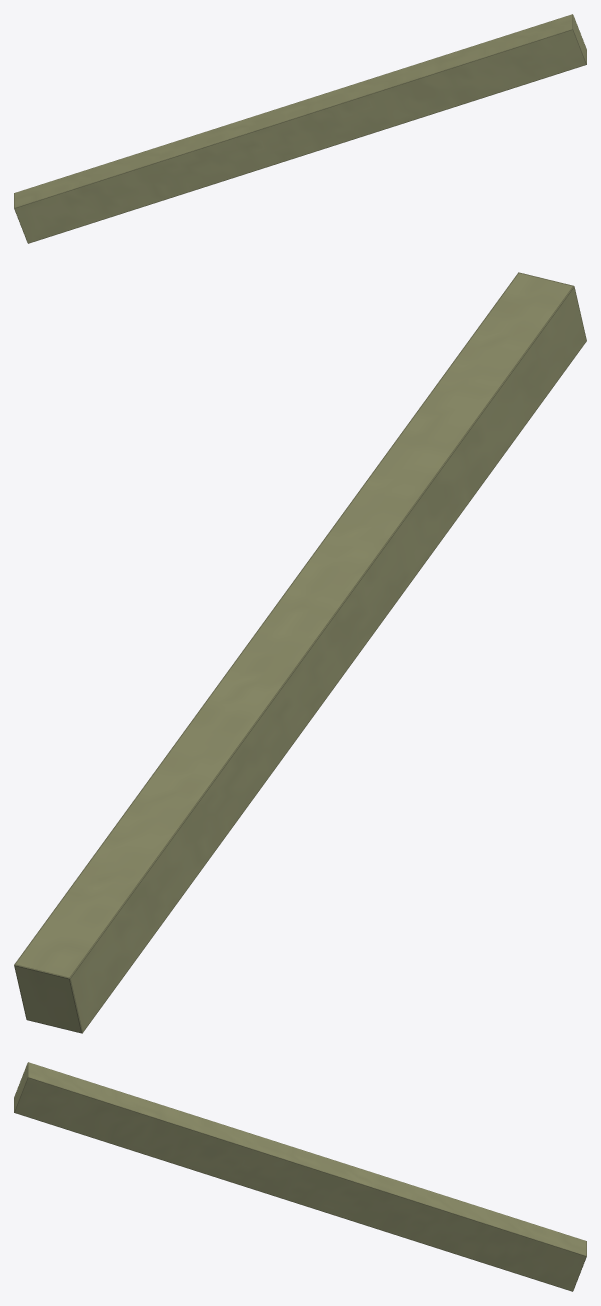
3 renders of one model, top to bottom at view 1: azimuth 90°, elevation 25°; view 2: azimuth 150°, elevation 25°; view 3: azimuth 270°, elevation 25°, orthographic. The views are drawn at different scales.
Parts seen in each view (by area): view 1: part-b; view 2: part-b; view 3: part-b.
Part boxes in pixels (x1=…): part-b: x1=14, y1=14, x2=586, y2=243; part-b: x1=14, y1=272, x2=586, y2=1033; part-b: x1=14, y1=1062, x2=586, y2=1291.
Bounding box in the file's own units: 0.0908 × 0.5997 × 1.45.
